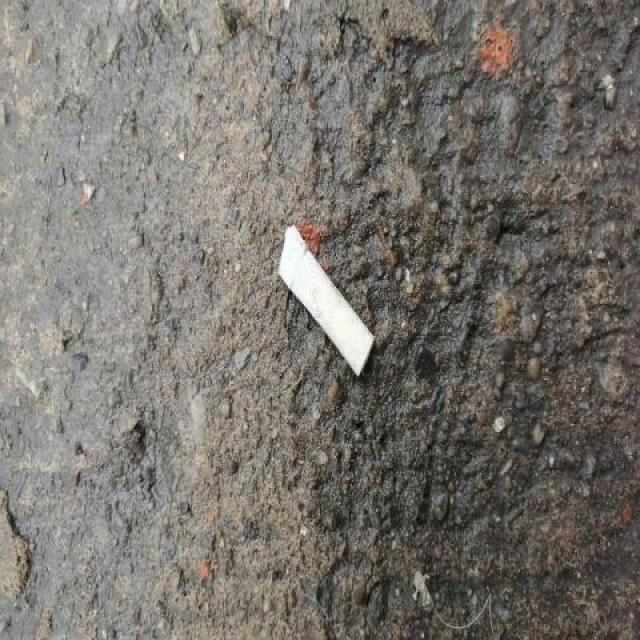non-organic waste: (273, 220, 379, 384)
